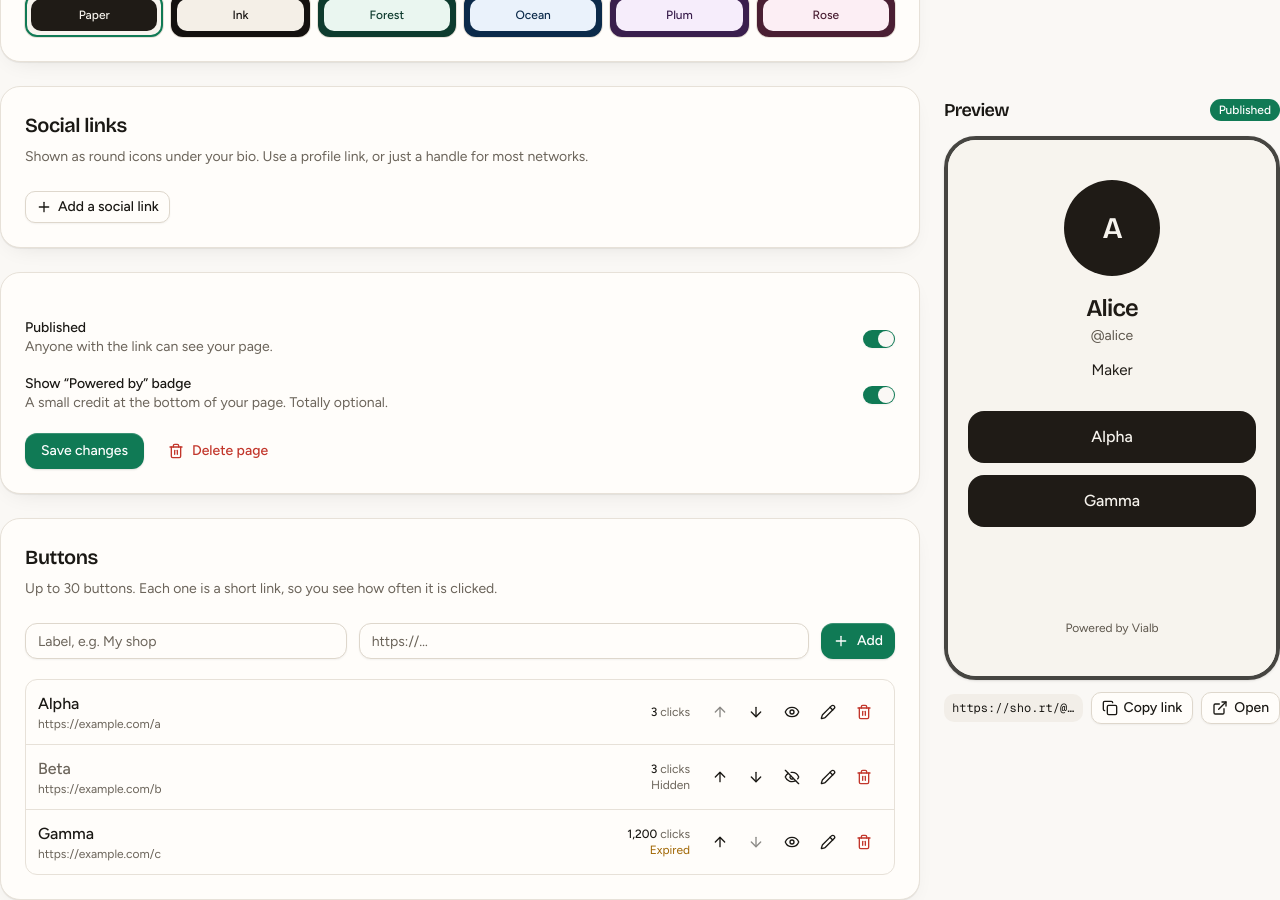
it: BioEditor with a page and buttons › hides and shows a button
This screenshot has width=1280, height=900.
(page scrolled)
Click the button named "Hide Alpha". click: coordinates (792, 712)
box: x1=774 y1=694 x2=810 y2=730
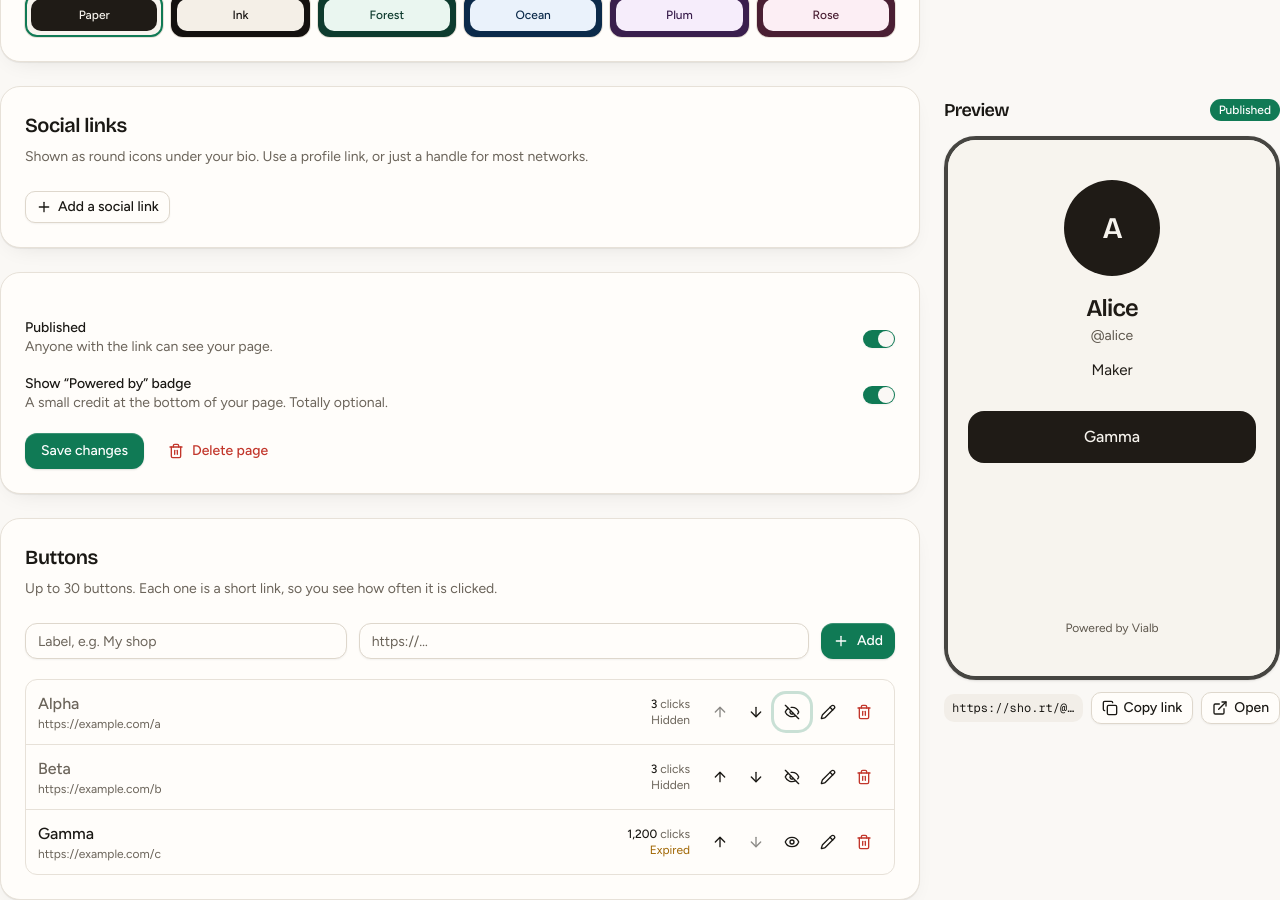
Now the button named "Show Alpha" is shown, box x1=774 y1=694 x2=810 y2=730
